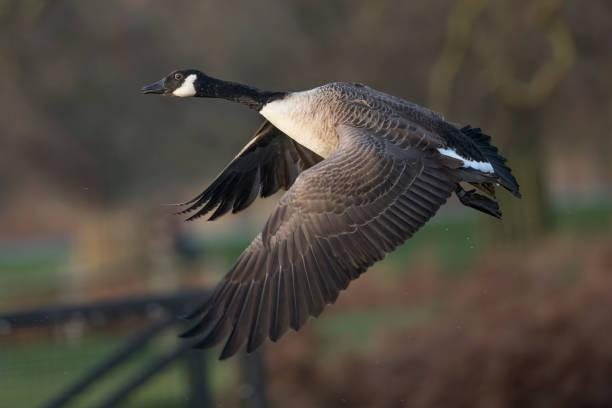Canadian-Goose: (137, 63, 525, 348)
